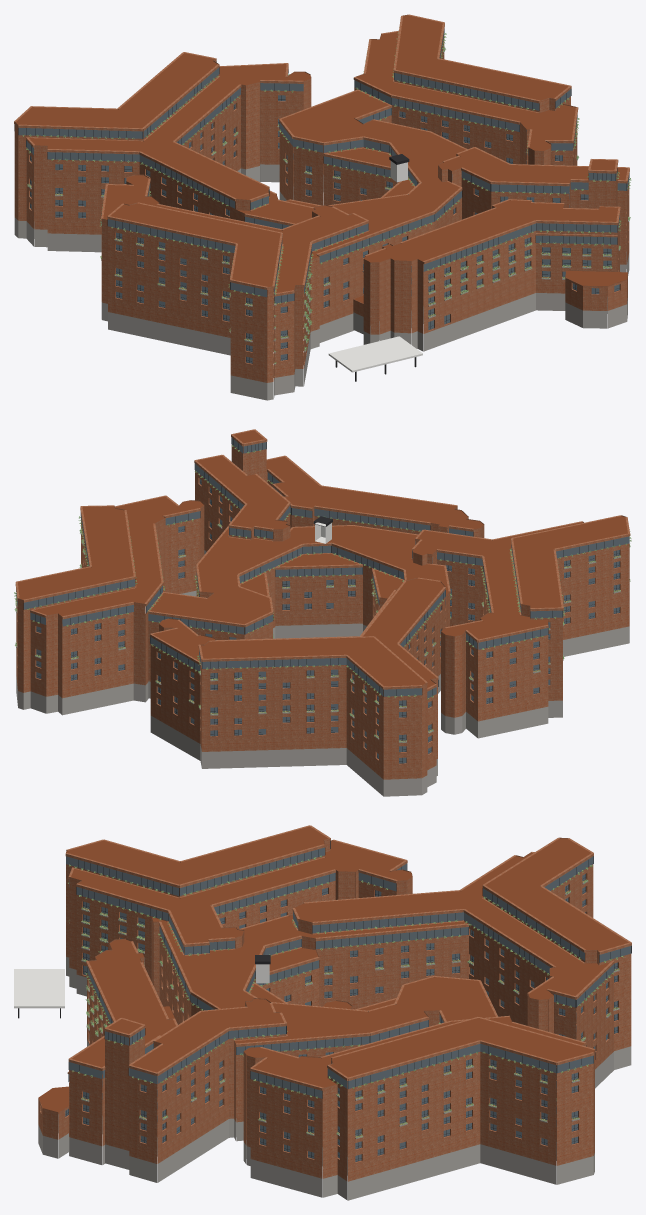
File: hotel_fachadas.glb
3 views of the same model, one above another, from view 1: azimuth 30°, elevation 25°; view 2: azimuth 150°, elevation 25°; view 3: azimuth 270°, elevation 25° (orthographic). The views are drawn at different scales.
Parts seen in each view (by area): view 1: Hotel_Fachadas_3D; view 2: Hotel_Fachadas_3D; view 3: Hotel_Fachadas_3D.
Boxes of the visible parts, x1,y1,x2,y2 form: Hotel_Fachadas_3D: (14,14,631,400); Hotel_Fachadas_3D: (14,429,631,796); Hotel_Fachadas_3D: (14,825,631,1200).
Bounding box in the file's own units: 129 × 32.61 × 133.
10 materials, 1 textured.
